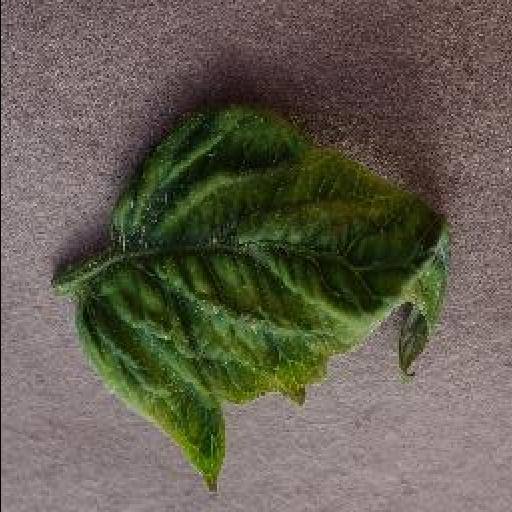disease_tomato: (74, 109, 450, 495)
